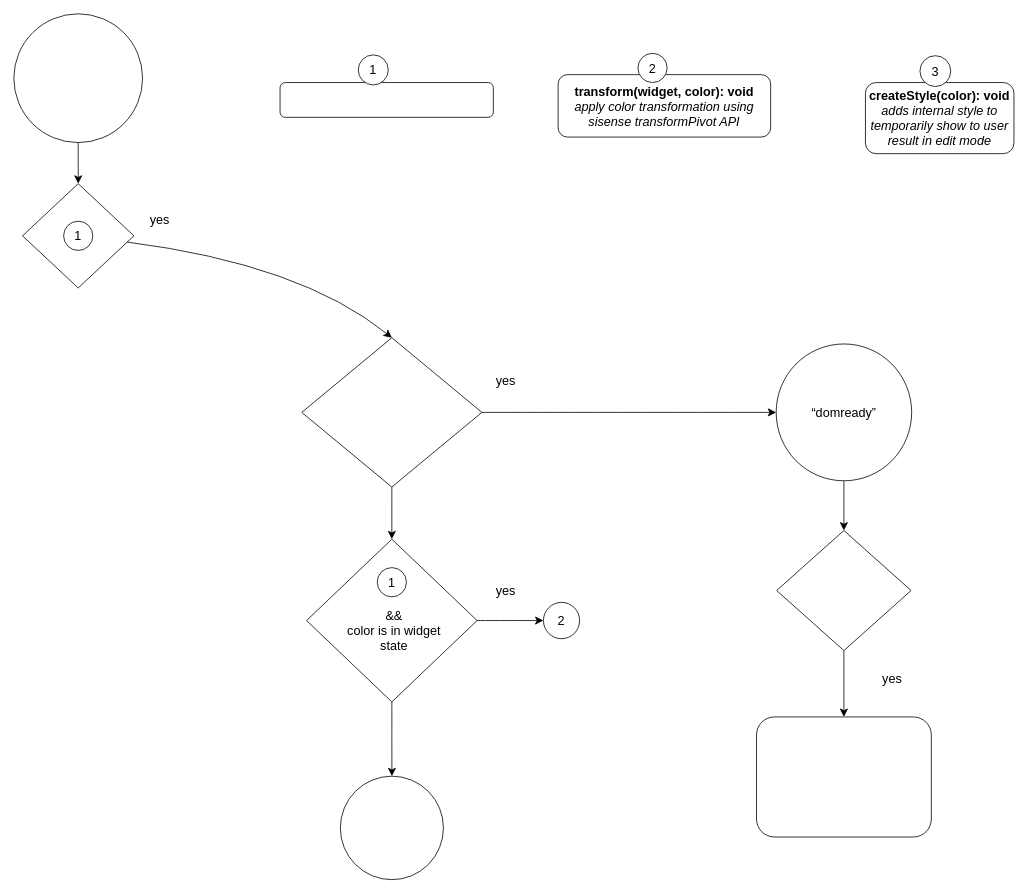
Image size: 1028x893. Some labels were removed from this diagram. The shapes that lost their labels are listed below. From the top down, each one's centre as x and y in pixels, then its label:
(78,78): “dashboardloaded” => “widgetinitialized”
(386,99): isWidgetSupported(type): Boolean
(391,412): prism.&ngscope.appstate === ‘widget’
(843,590): design panel is present
(391,827): 2 + (‘transparent’)
